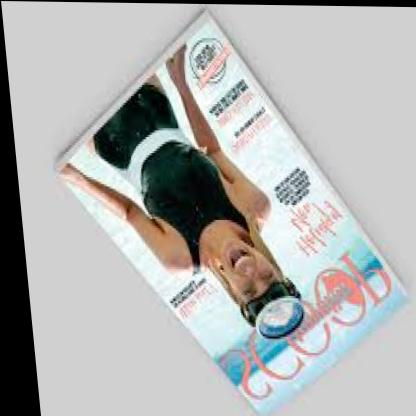Paper: (42, 0, 416, 416)
